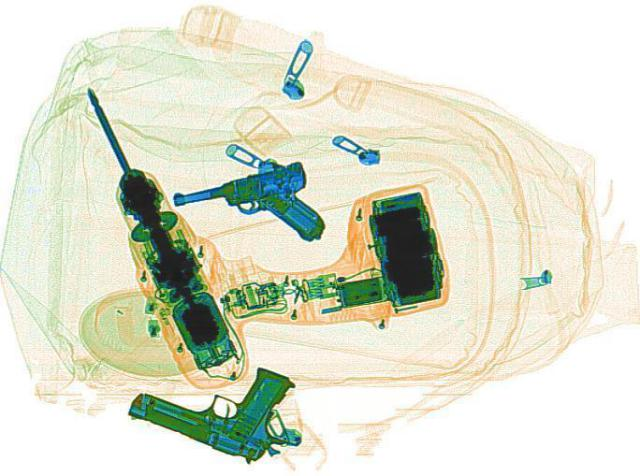Gun: (118, 334, 330, 467), (168, 158, 340, 264)
